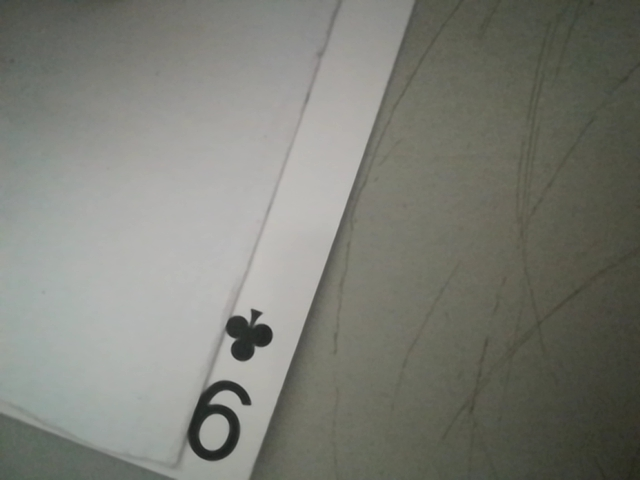mh 9: (168, 298, 286, 477)
